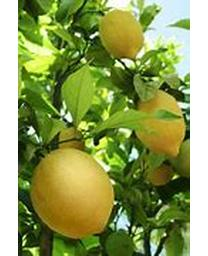lemon: (31, 149, 113, 236), (132, 88, 185, 160), (101, 10, 145, 62)
